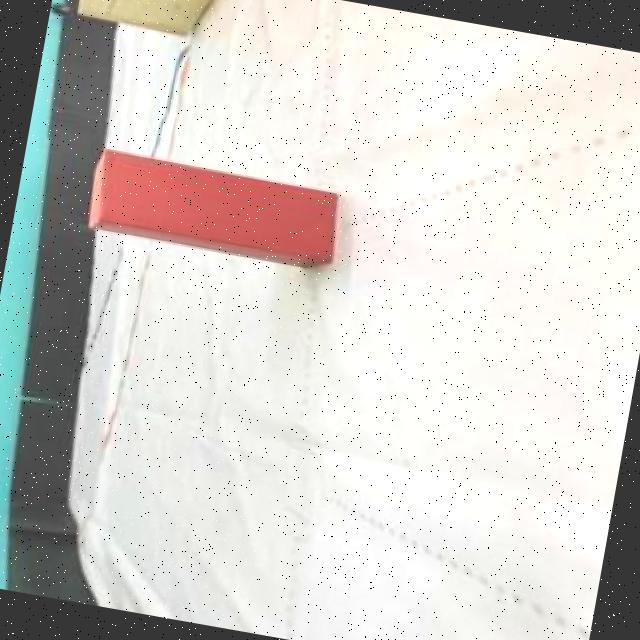redbox: (78, 143, 343, 274)
